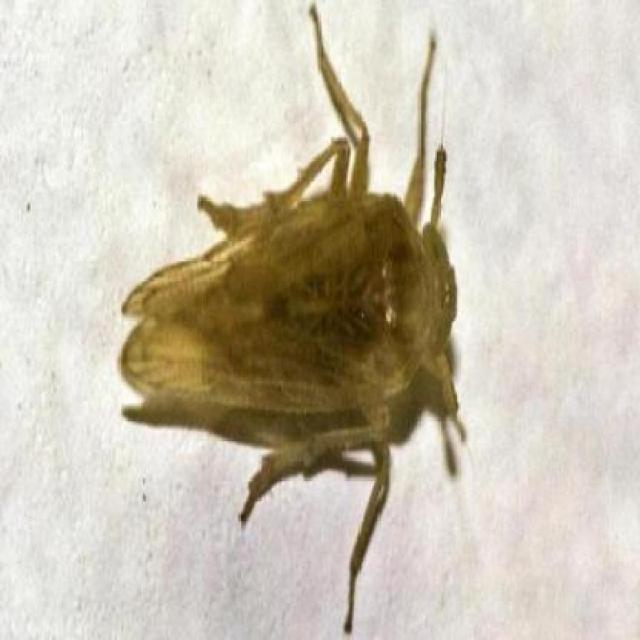brown-planthopper: (115, 139, 472, 495)
